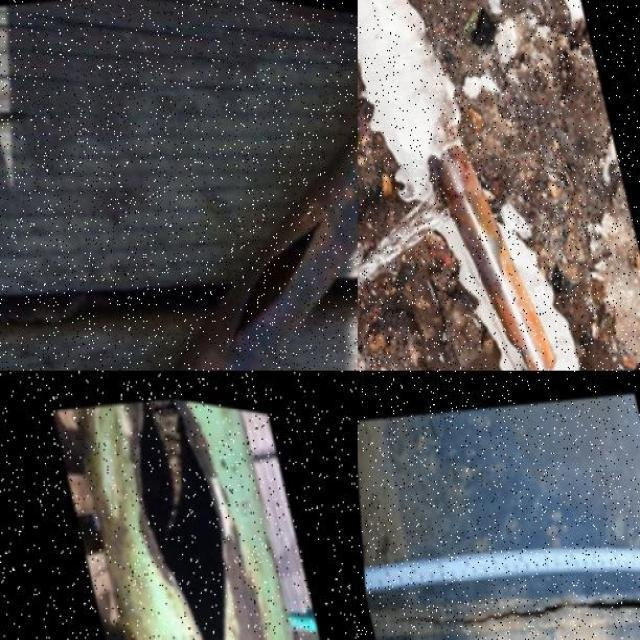crack: (374, 527, 640, 640)
rupture: (127, 391, 233, 639), (218, 201, 332, 345), (422, 155, 454, 204)
